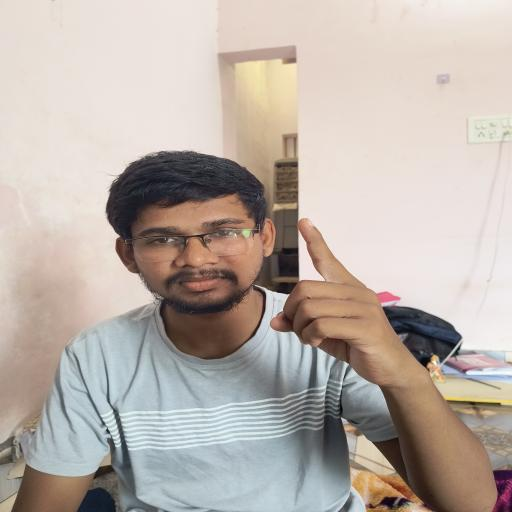What: (268, 209, 438, 400)
